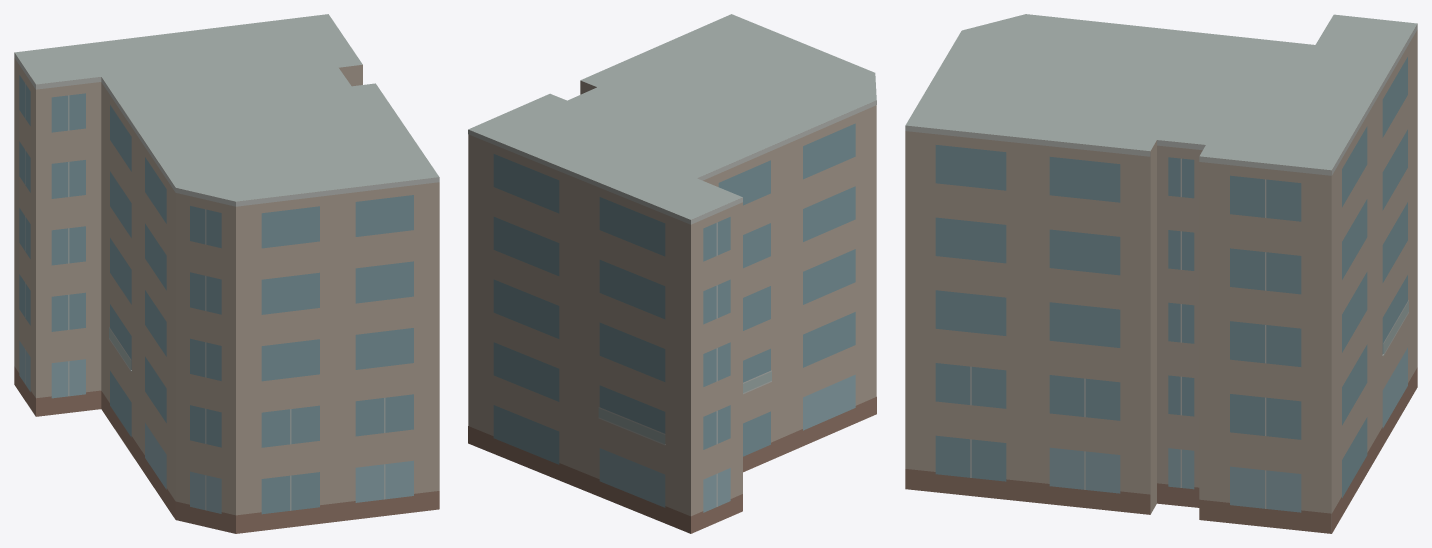
File: survey-upis-32978222.glb
The picture shows the model from 3 angles, left to right: view 1: azimuth 30°, elevation 25°; view 2: azimuth 150°, elevation 25°; view 3: azimuth 270°, elevation 25°; orthographic projection. The views are drawn at different scales.
Visible parts, largest first — view 1: survey-upis-32978222.tmp; view 2: survey-upis-32978222.tmp; view 3: survey-upis-32978222.tmp.
Part boxes in pixels (x1,y1,x2,y2): survey-upis-32978222.tmp: (14,14,439,533); survey-upis-32978222.tmp: (468,14,876,533); survey-upis-32978222.tmp: (905,14,1417,533).
Size of the model in its own units: 14.67 by 15.9 by 20.31.
